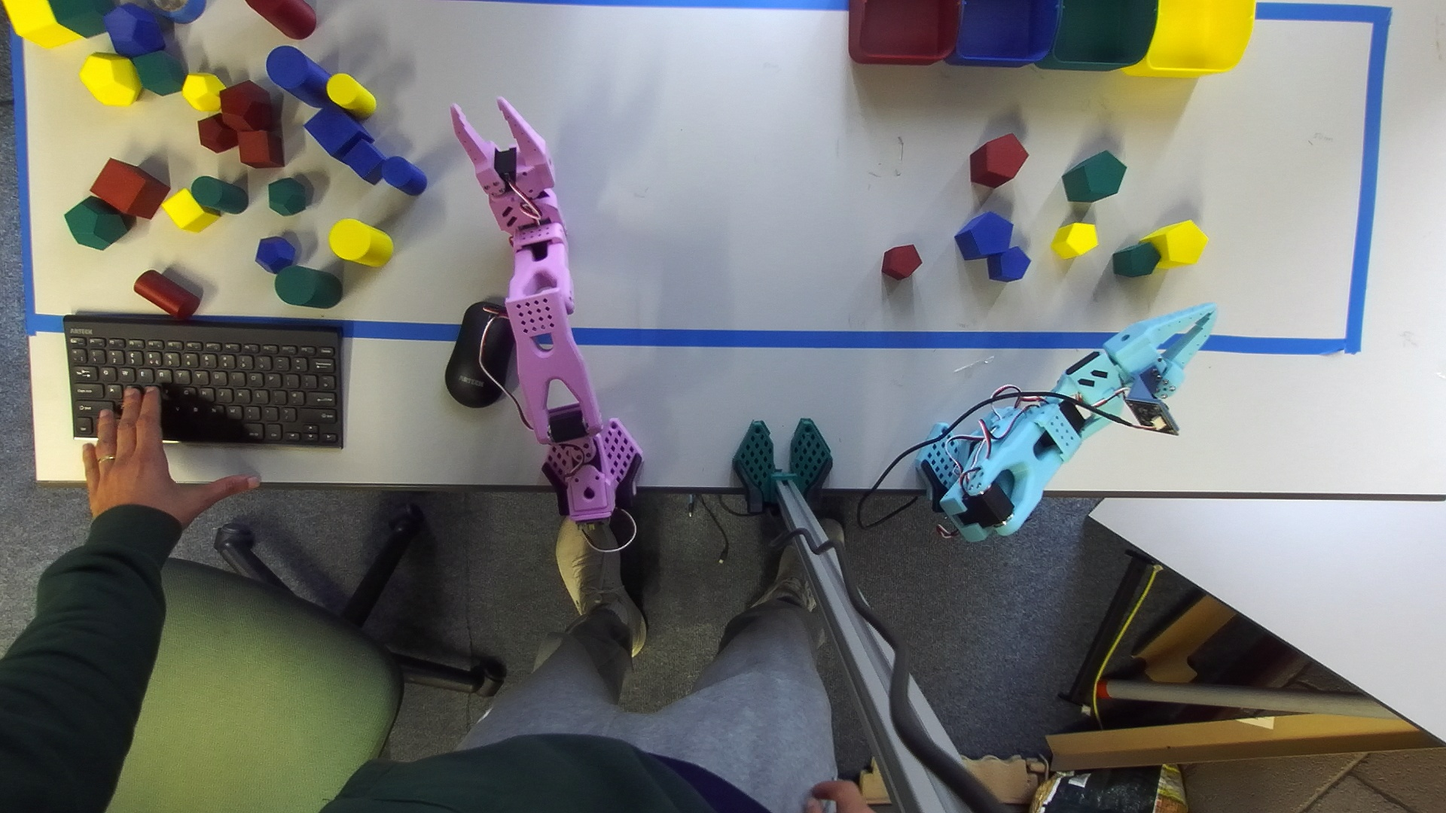bin: (1123, 0, 1255, 77), (1038, 0, 1158, 70), (947, 0, 1060, 65), (848, 0, 959, 64)
gripper: (451, 97, 561, 236), (1102, 303, 1216, 431)
hexagonal: (1061, 151, 1126, 202), (1141, 221, 1207, 268), (970, 134, 1028, 187), (955, 212, 1012, 260), (1051, 222, 1097, 258), (1112, 242, 1160, 276), (988, 247, 1030, 281), (882, 244, 922, 279)
